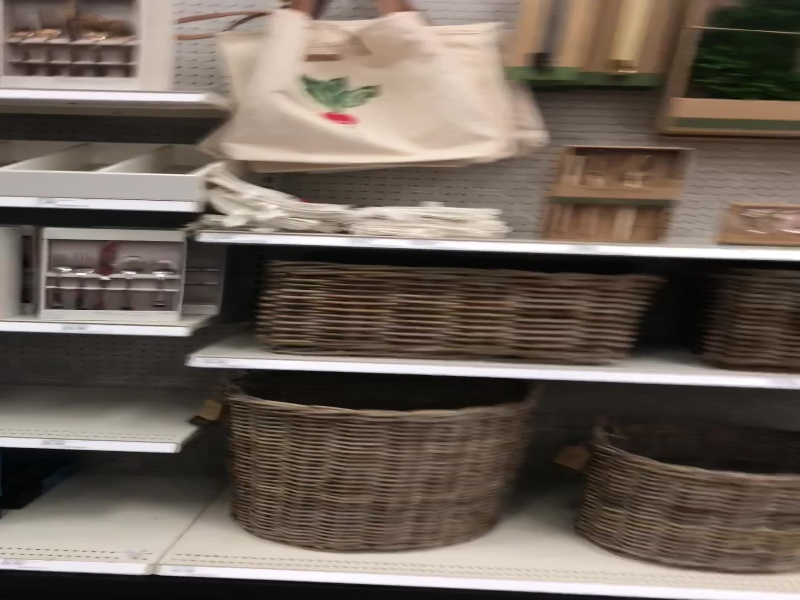empty_shelf_space: (16, 450, 225, 558), (1, 330, 185, 439)
